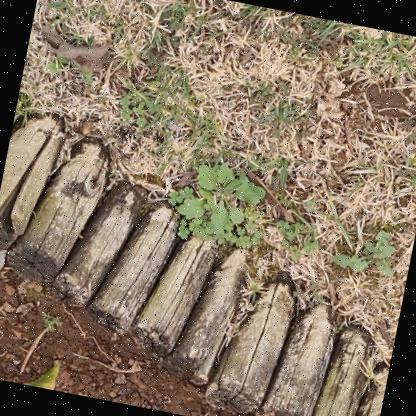Weeds: (173, 157, 269, 239), (327, 220, 400, 279)
